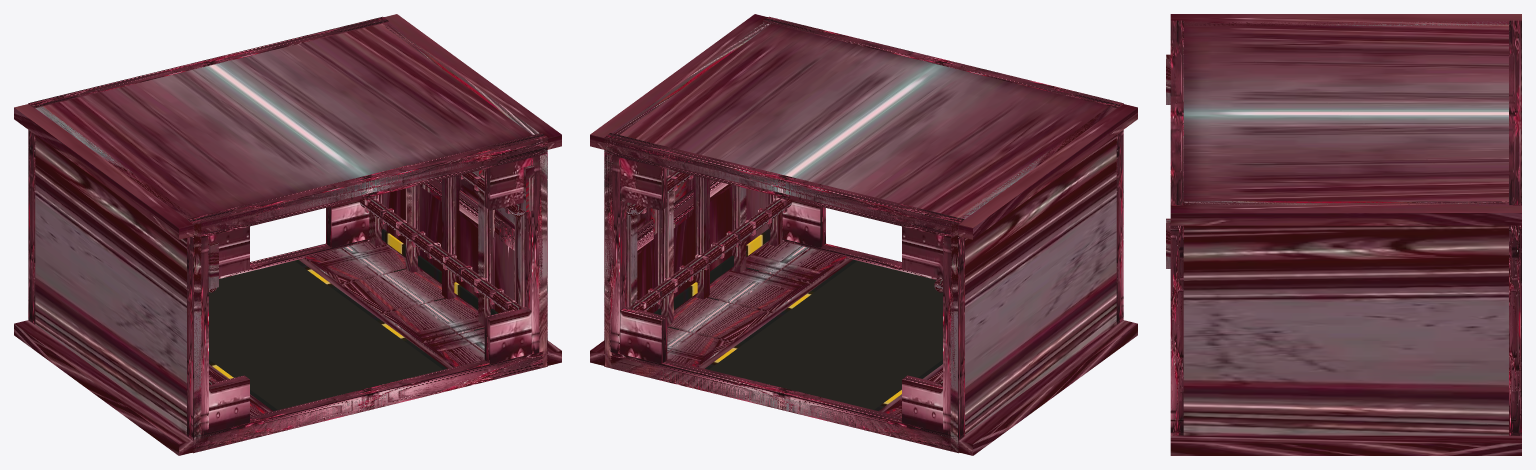
The model's file is hangar_koridor_kristal.glb.
The picture shows the model from 3 angles, left to right: view 1: azimuth 30°, elevation 25°; view 2: azimuth 150°, elevation 25°; view 3: azimuth 270°, elevation 25°; orthographic projection. The views are drawn at different scales.
Parts seen in each view (by area): view 1: LOD0_koridor; view 2: LOD0_koridor; view 3: LOD0_koridor.
Part boxes in pixels (box(x1,y1,x2,y2)): LOD0_koridor: box(14, 14, 561, 455); LOD0_koridor: box(590, 14, 1137, 455); LOD0_koridor: box(1166, 14, 1521, 455).
Size of the model in its own units: 10.2 by 5.84 by 7.7.
Materials: 1 (1 with a texture image).
